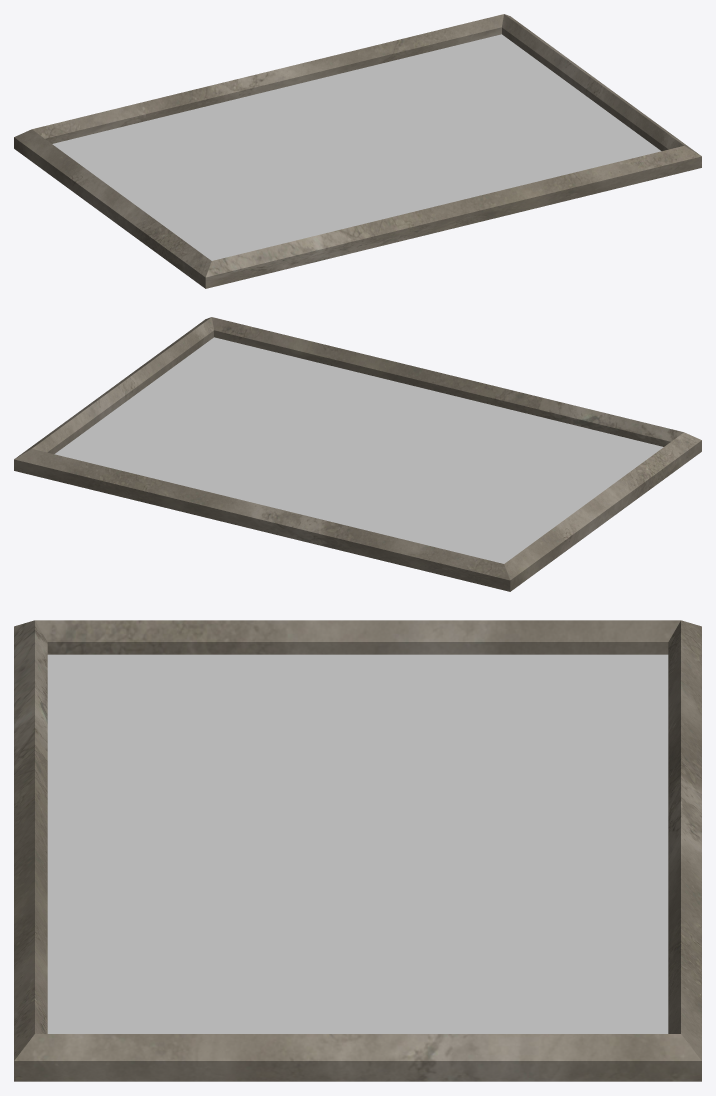
File: Frame1.gltf
3 views of the same model, one above another, from view 1: azimuth 30°, elevation 25°; view 2: azimuth 150°, elevation 25°; view 3: azimuth 270°, elevation 25° (orthographic). The views are drawn at different scales.
Visible parts, largest first — view 1: Plane; view 2: Plane; view 3: Plane.
Part boxes in pixels (x1=…): Plane: x1=14, y1=14, x2=701, y2=288; Plane: x1=14, y1=317, x2=701, y2=591; Plane: x1=14, y1=620, x2=701, y2=1081.
Size of the model in its own units: 28.61 by 1.14 by 19.13.
